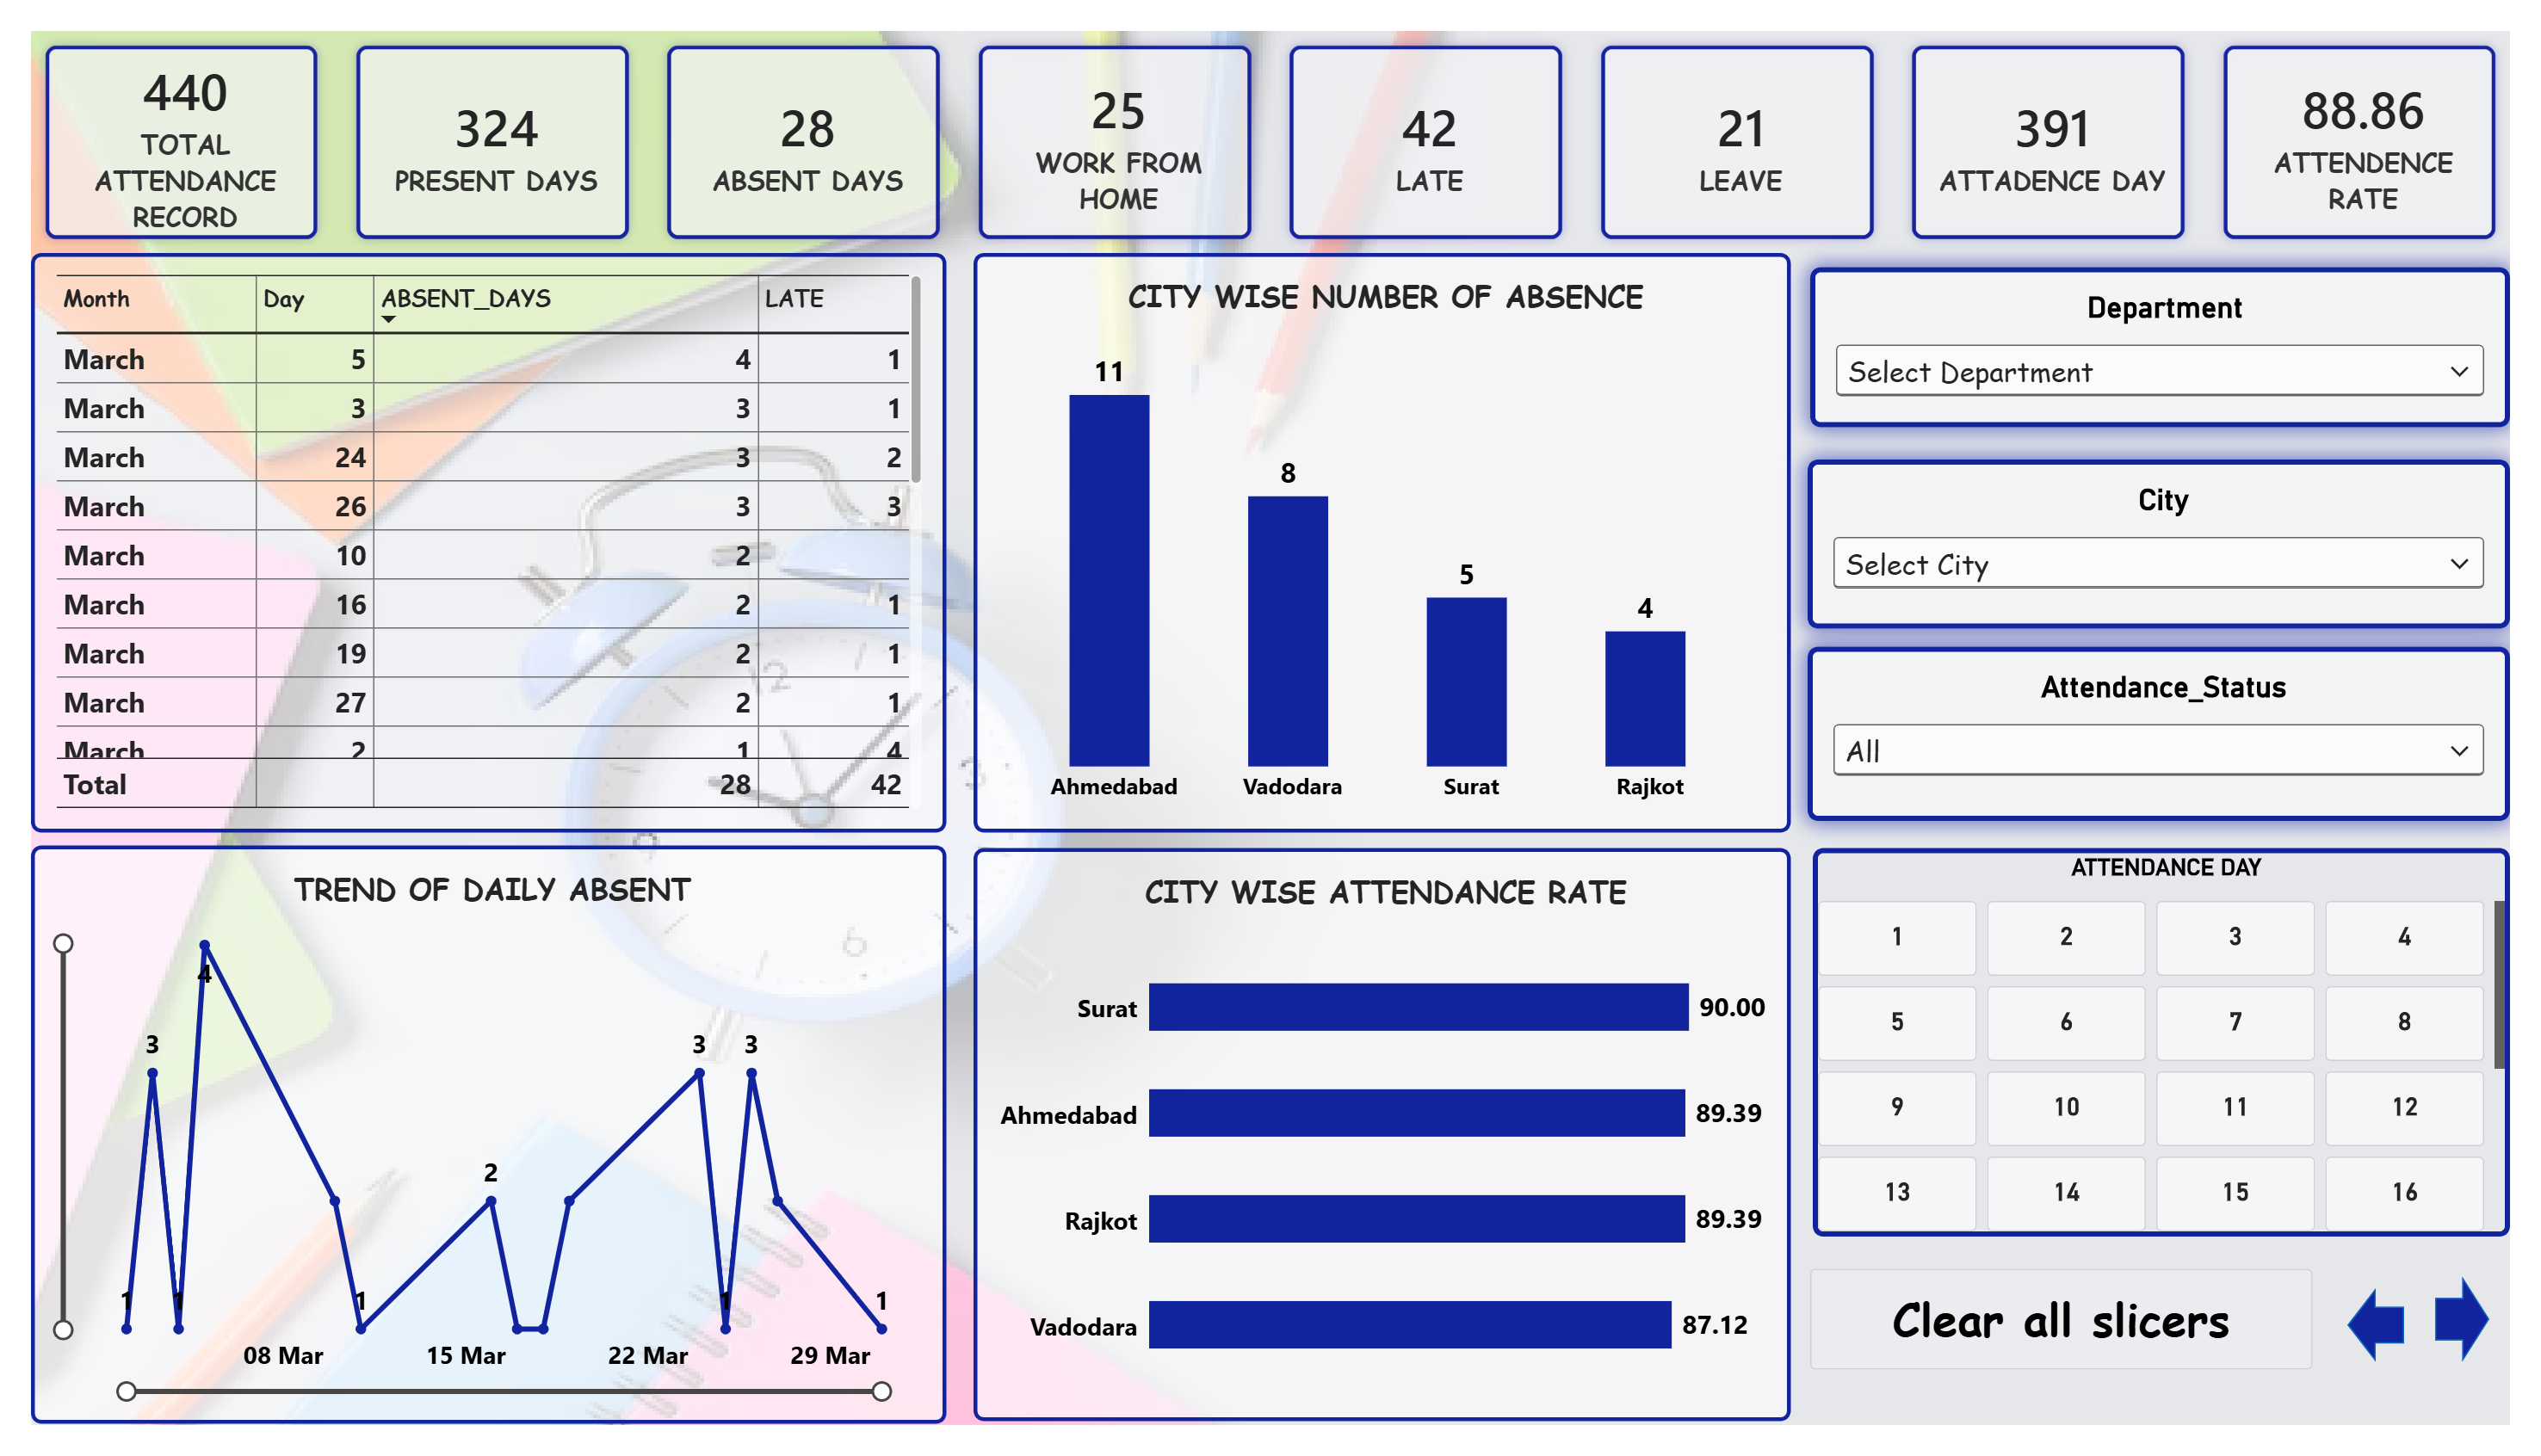

Layout of this report page (visuals, bound fields, positions):
{"tool":"powerbi","page":{"name":" Page 3","canvas":[1920,1080],"ordinal":2},"visuals":[{"type":"lineChart","title":"TREND OF DAILY ABSENT","fields":{"Category":["Attendance_Log.Attendance_Date.Variation.Date Hierarchy.Year","Attendance_Log.Attendance_Date.Variation.Date Hierarchy.Month","Attendance_Log.Attendance_Date.Variation.Date Hierarchy.Day"],"Y":["_MEASURE.ABSENT_DAYS"]},"box":[0,631,708.9,448],"z":1000},{"type":"tableEx","fields":{"Values":["Attendance_Log.Attendance_Date.Variation.Date Hierarchy.Month","Attendance_Log.Attendance_Date.Variation.Date Hierarchy.Day","_MEASURE.ABSENT_DAYS","_MEASURE.LATE"]},"box":[0,172.5,708.9,448],"z":2000},{"type":"clusteredColumnChart","title":"CITY WISE NUMBER OF ABSENCE","fields":{"Category":["Attendance_Log.City"],"Y":["_MEASURE.ABSENT_DAYS"]},"box":[729.9,172.5,633.1,448],"z":3000},{"type":"clusteredBarChart","title":"CITY WISE ATTENDANCE RATE","fields":{"Category":["Attendance_Log.City"],"Y":["_MEASURE.ATTENDENCE_RATE"]},"box":[729.9,633.1,633.1,443.8],"z":4000},{"type":"actionButton","box":[1377.7,959.2,389.1,77.8],"z":9000},{"type":"shape","box":[1861.5,965.5,42.1,65.2],"z":10000},{"type":"shape","box":[1794.2,973.9,44.2,56.8],"z":11000},{"type":"listSlicer","fields":{"Values":["Attendance_Log.Department"]},"box":[1377.7,183,542.7,124.1],"z":11001},{"type":"listSlicer","fields":{"Values":["Attendance_Log.City"]},"box":[1375.6,332.3,544.8,130.4],"z":11002},{"type":"listSlicer","fields":{"Values":["Attendance_Log.Attendance_Status"]},"box":[1375.6,477.5,544.8,134.6],"z":11003},{"type":"advancedSlicerVisual","title":"ATTENDANCE DAY","fields":{"Values":["Attendance_Log.Attendance_Date.Variation.Date Hierarchy.Day"]},"box":[1379.8,633.1,540.6,300.8],"z":11004},{"type":"cardVisual","fields":{"Data":["_MEASURE.TOTAL_ATTADENCE_RECORD","_MEASURE.PRESENT_DAYS","_MEASURE.ABSENT_DAYS","_MEASURE.WORK_FROM_HOME","_MEASURE.COME_LATE","_MEASURE.LEAVE","_MEASURE.ATTADENCE_DAY","_MEASURE.ATTENDENCE_RATE"]},"box":[0,0,1920.4,172.5],"z":11005}]}

Visuals, with their boxes in screenshot pixels (x1, y1, x2, y2), scaled from the page's 1920x1080 canvas onto the 2541x1456 screenshot:
"TREND OF DAILY ABSENT" lineChart: Rect(0, 851, 938, 1454)
tableEx - Attendance_Log.Attendance_Date.Variation.Date Hierarchy.Month x Attendance_Log.Attendance_Date.Variation.Date Hierarchy.Day: Rect(0, 232, 938, 836)
"CITY WISE NUMBER OF ABSENCE" clusteredColumnChart: Rect(966, 232, 1804, 836)
"CITY WISE ATTENDANCE RATE" clusteredBarChart: Rect(966, 854, 1804, 1452)
actionButton: Rect(1823, 1293, 2338, 1398)
shape: Rect(2464, 1302, 2519, 1390)
shape: Rect(2375, 1313, 2433, 1390)
listSlicer - Attendance_Log.Department: Rect(1823, 247, 2540, 414)
listSlicer - Attendance_Log.City: Rect(1821, 448, 2540, 624)
listSlicer - Attendance_Log.Attendance_Status: Rect(1821, 644, 2540, 825)
"ATTENDANCE DAY" advancedSlicerVisual: Rect(1826, 854, 2540, 1259)
cardVisual - _MEASURE.TOTAL_ATTADENCE_RECORD x _MEASURE.PRESENT_DAYS: Rect(0, 0, 2540, 232)
